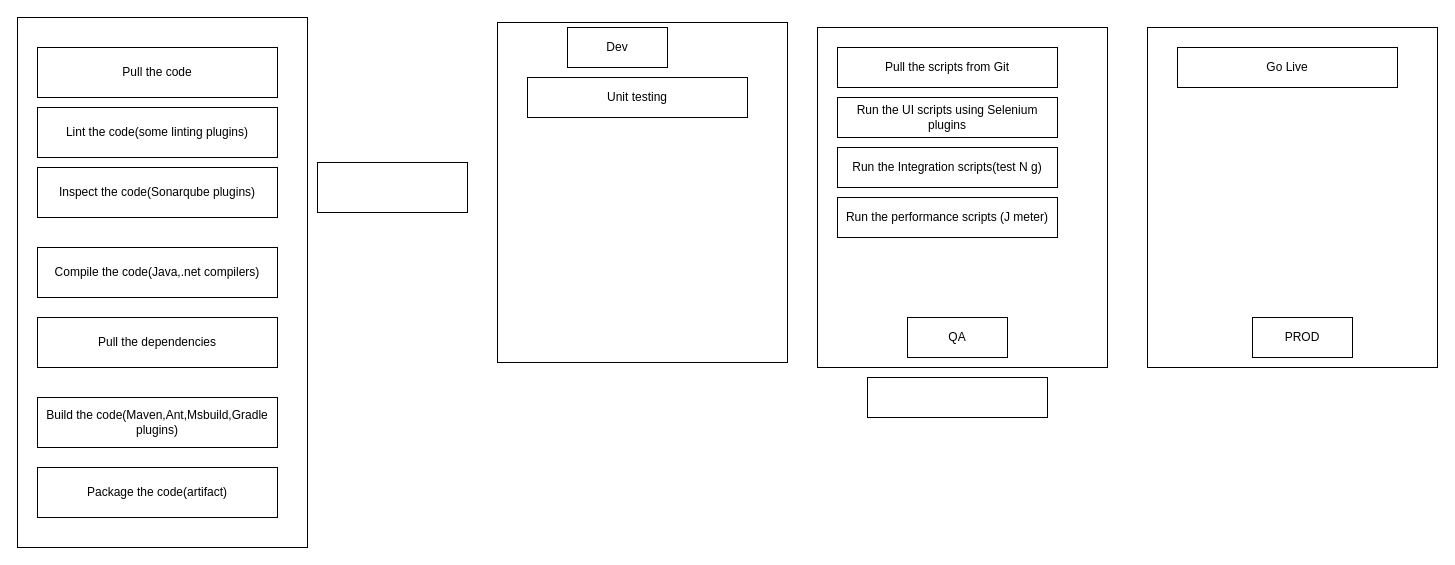
Image size: 1455x565. Some labels were removed from this diagram. The shapes that lost their labels are listed below. From the top down, each one's box as (x1, y1, x2, y2) in pixels, then its label:
(316, 162, 468, 212): Publish the artifact
(866, 376, 1048, 418): Code coverage report
